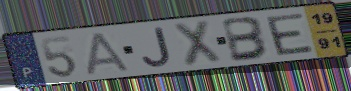5: (38, 34, 80, 79)
A: (85, 30, 132, 76)
B: (221, 15, 272, 63)
E: (263, 11, 317, 57)
J: (140, 25, 175, 69)
X: (170, 18, 224, 68)
